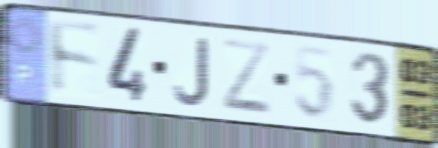3: (347, 50, 391, 128)
4: (104, 23, 154, 108)
5: (293, 42, 338, 124)
F: (46, 16, 104, 100)
J: (172, 36, 212, 108)
Z: (221, 36, 273, 118)
